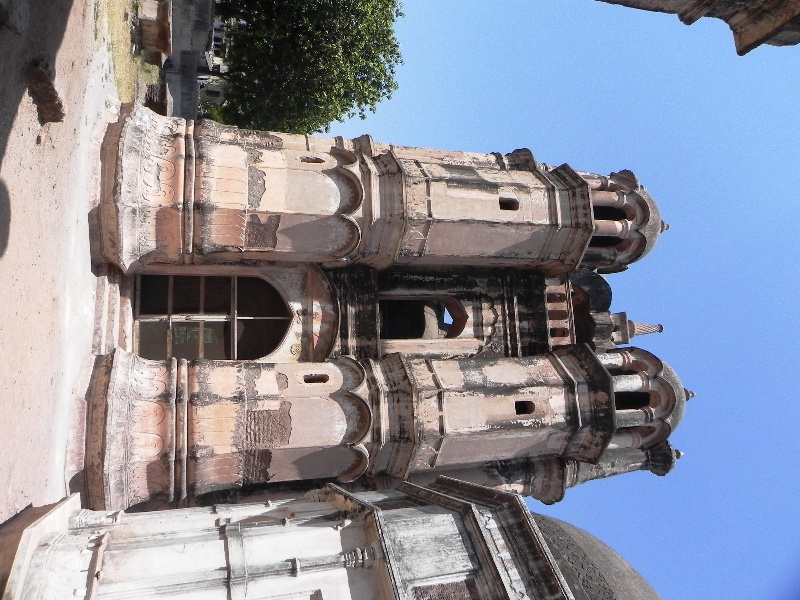Exposed Bricks: (245, 411, 262, 445)
Spalling: (244, 211, 283, 252), (265, 402, 294, 446), (246, 164, 267, 208), (243, 362, 260, 407), (273, 369, 289, 397), (245, 147, 261, 161)
